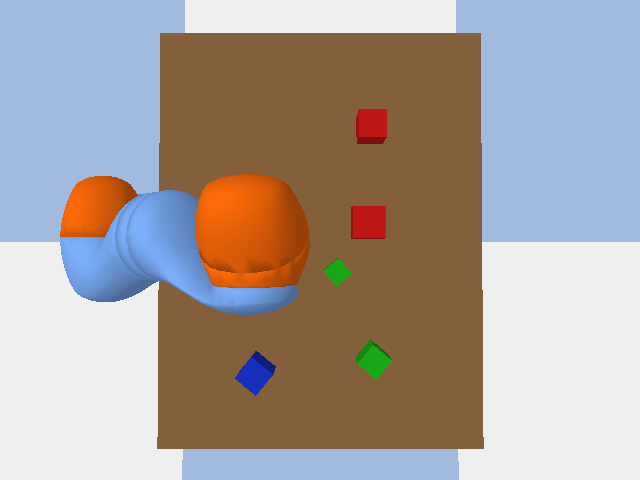blue_obj: (235, 351, 275, 395)
green_obj: (355, 339, 391, 379), (323, 258, 351, 286)
red_obj: (351, 206, 385, 238), (356, 109, 386, 143)
